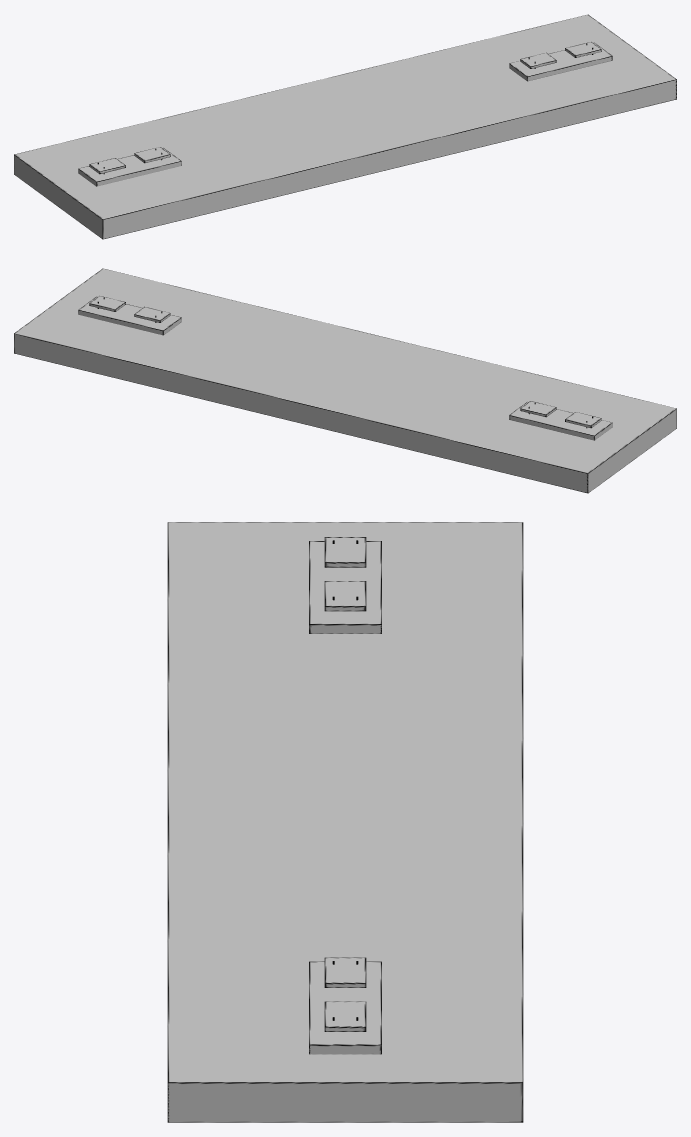
File: RailBoard.fbx
3 views of the same model, one above another, from view 1: azimuth 30°, elevation 25°; view 2: azimuth 150°, elevation 25°; view 3: azimuth 270°, elevation 25° (orthographic). The views are drawn at different scales.
Parts seen in each view (by area): view 1: RailMesh; view 2: RailMesh; view 3: RailMesh.
Part boxes in pixels (x1,y1,x2,y2): RailMesh: [14, 14, 676, 239]; RailMesh: [14, 268, 676, 493]; RailMesh: [167, 522, 523, 1122].
Size of the model in its own units: 746 by 39.33 by 200.
1 material, 1 textured.
